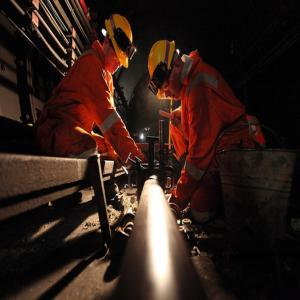yellow: (148, 42, 184, 99), (103, 16, 133, 75)
